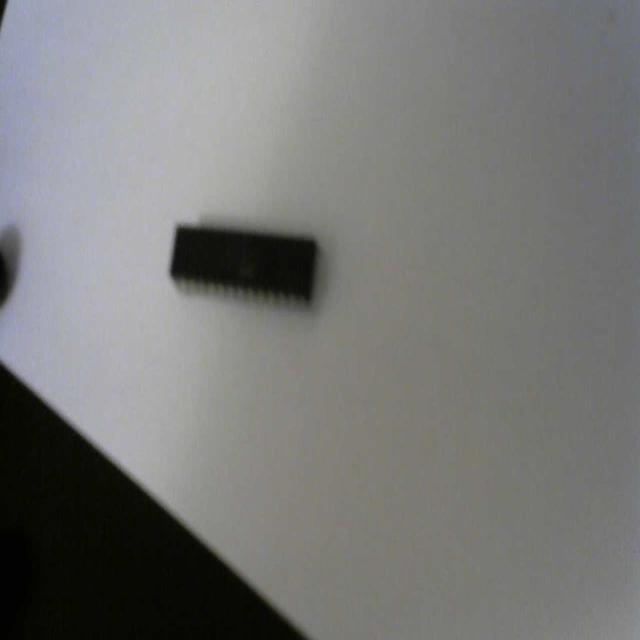atmega: (163, 206, 330, 320)
